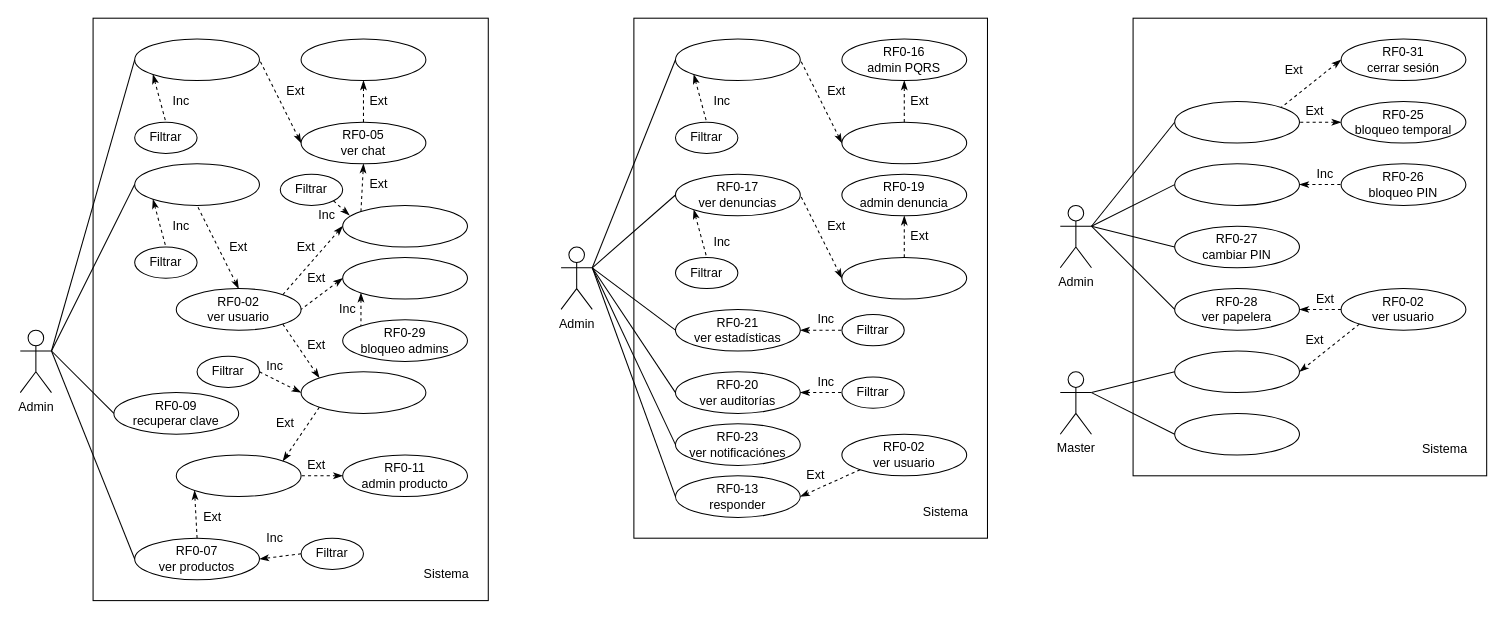
The diagram is 1505 pixels wide and 619 high, and some of its shapes have lost their labels. The box of each missing label's shape, as (x1, y1, x2, y2) in pixels:
RF0-01 ver usuarios: (134, 163, 259, 205)
RF0-03 ver catálogo: (300, 371, 426, 413)
RF0-04 ver historial: (342, 204, 467, 247)
RF0-06 ver producto: (175, 454, 301, 497)
RF0-08 ver chats: (134, 38, 259, 81)
RF0-10 admin usuario: (342, 256, 467, 299)
RF0-12 admin chat: (300, 38, 426, 81)
RF0-14 ver PQRSs: (674, 38, 800, 81)
RF0-15 ver PQRS: (841, 121, 967, 164)
RF0-18 ver denuncia: (841, 256, 967, 299)
RF0-22 roles usuario: (1174, 350, 1299, 393)
RF0-24 iniciar sesión: (1174, 100, 1299, 143)
RF0-26 desbloqueo PIN: (1174, 163, 1299, 205)
RF0-30 ver logins: (1174, 412, 1299, 455)
